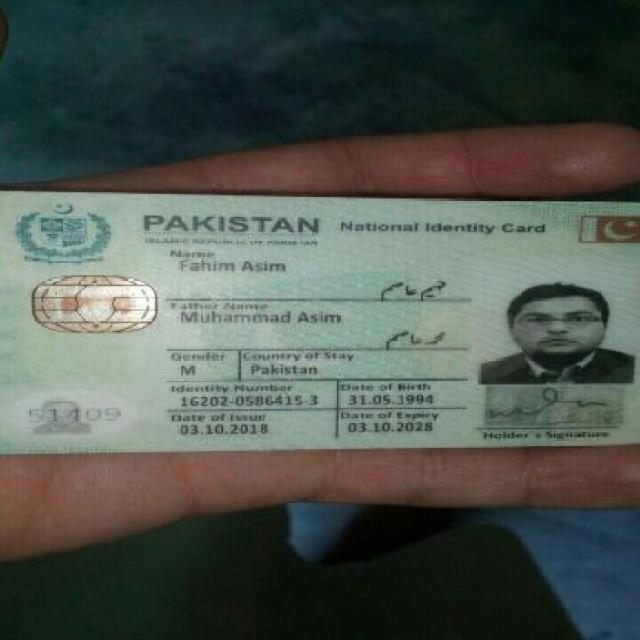Front: (5, 182, 632, 452)
